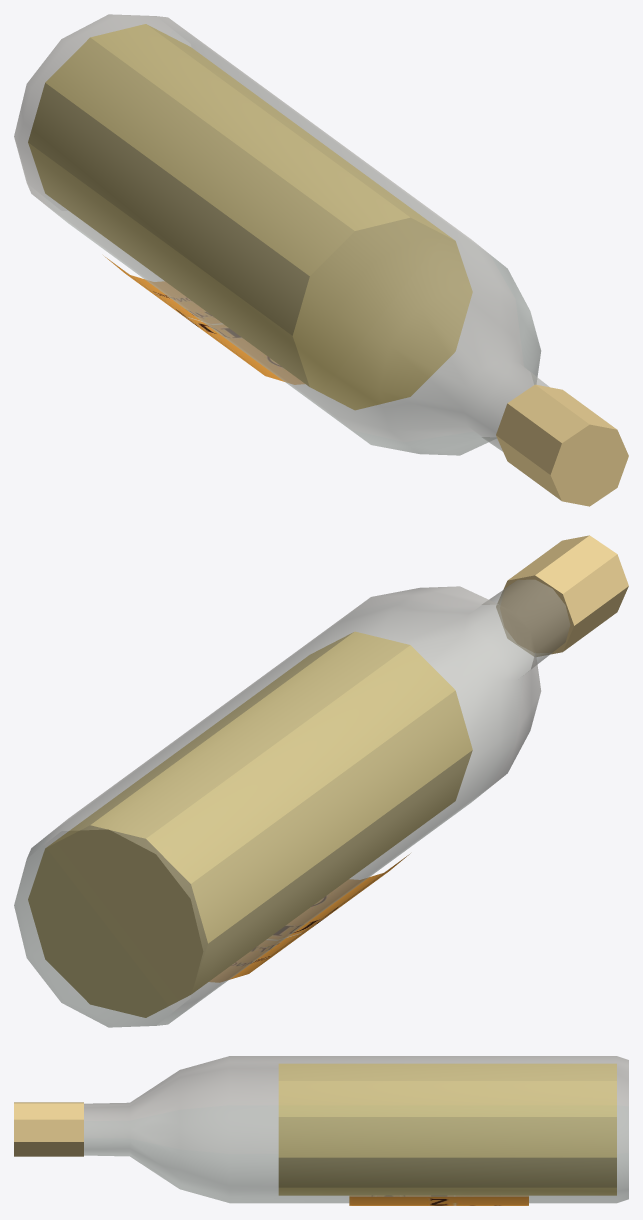
The model's file is bottle_wine_3_tilt90_0.glb.
3 views of the same model, one above another, from view 1: azimuth 30°, elevation 25°; view 2: azimuth 150°, elevation 25°; view 3: azimuth 270°, elevation 25° (orthographic). The views are drawn at different scales.
Visible parts, largest first — view 1: Bottle, Drink, Cap, Label; view 2: Bottle, Drink, Cap, Label; view 3: Bottle, Drink, Cap, Label.
Part boxes in pixels (x1,y1,x2,y2): Bottle: (14,14,549,455); Drink: (28,24,472,410); Cap: (496,384,628,506); Label: (103,255,304,384); Bottle: (14,580,569,1027); Drink: (28,631,472,1017); Cap: (496,535,628,656); Label: (209,853,410,982); Bottle: (84,1056,628,1203); Drink: (278,1063,616,1195); Cap: (14,1102,83,1156); Label: (349,1196,528,1205).
Bounding box in the file's own units: 0.074 × 0.0755 × 0.308.
4 materials, 3 textured.
